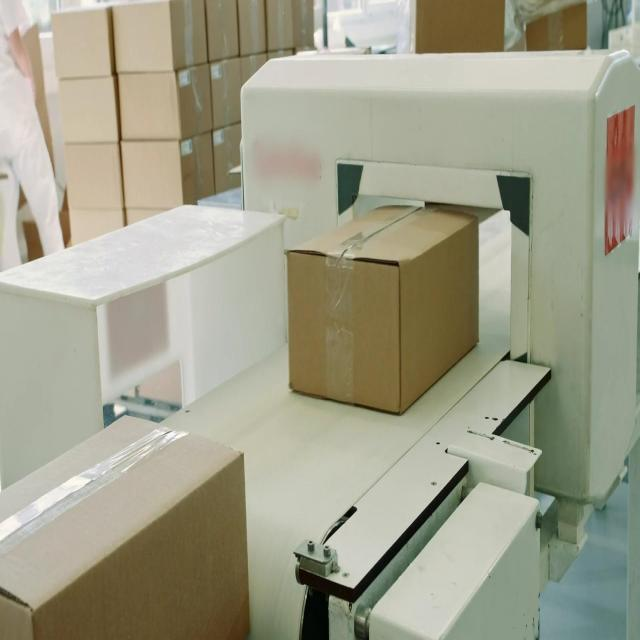box: (0, 409, 251, 639), (280, 198, 480, 412), (516, 0, 590, 53)
